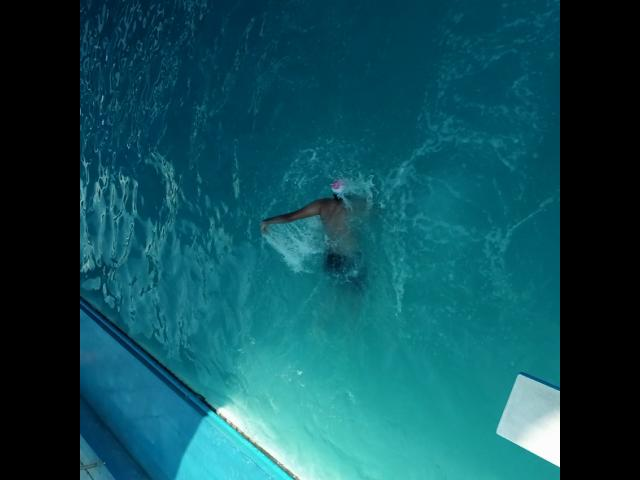swimming: (260, 180, 378, 288)
